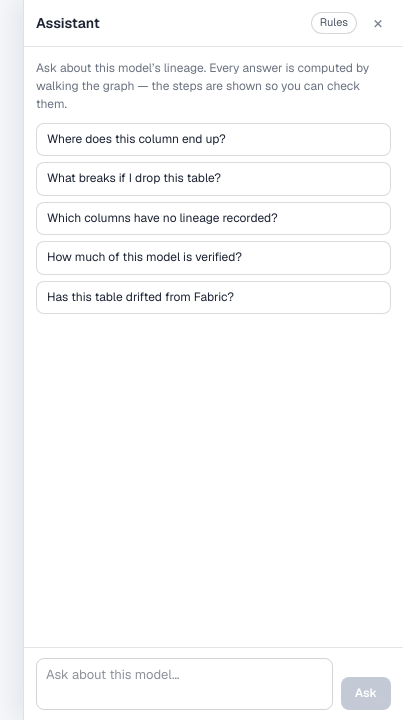
Test case: AssistantPanel › sends the model and the question, and shows the answer
The image size is (403, 720).
In the text box labelled "Ask about this model": (184, 684) left=36, top=658, right=333, bottom=710, type "where does amount go?"
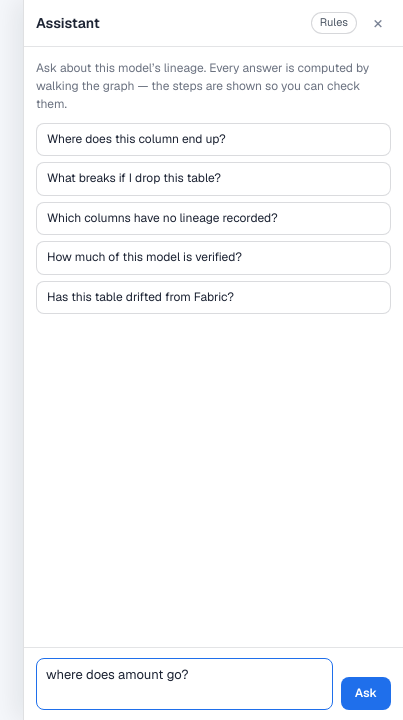
Click the button "Ask": (366, 693) left=341, top=677, right=391, bottom=710
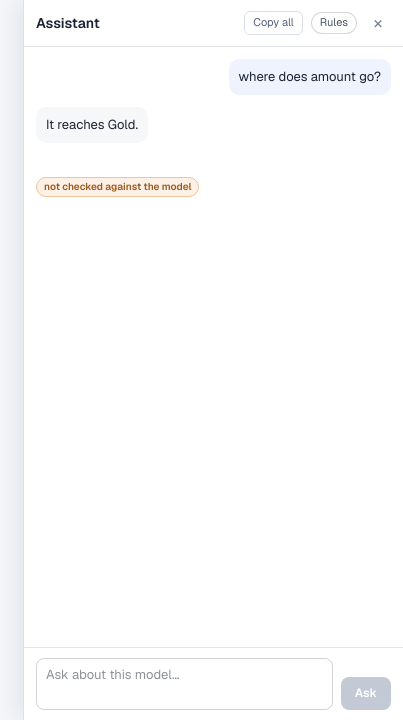
Result: the text "It reaches Gold." is shown at left=36, top=107, right=148, bottom=143
